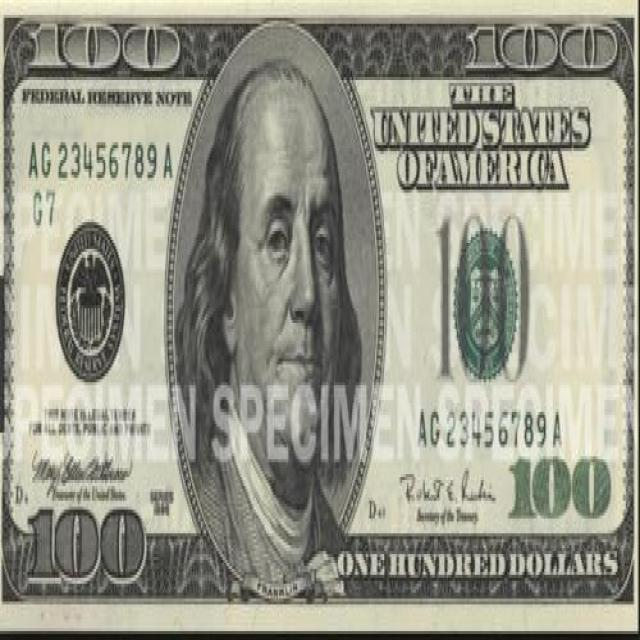100-Front: (0, 0, 639, 628)
